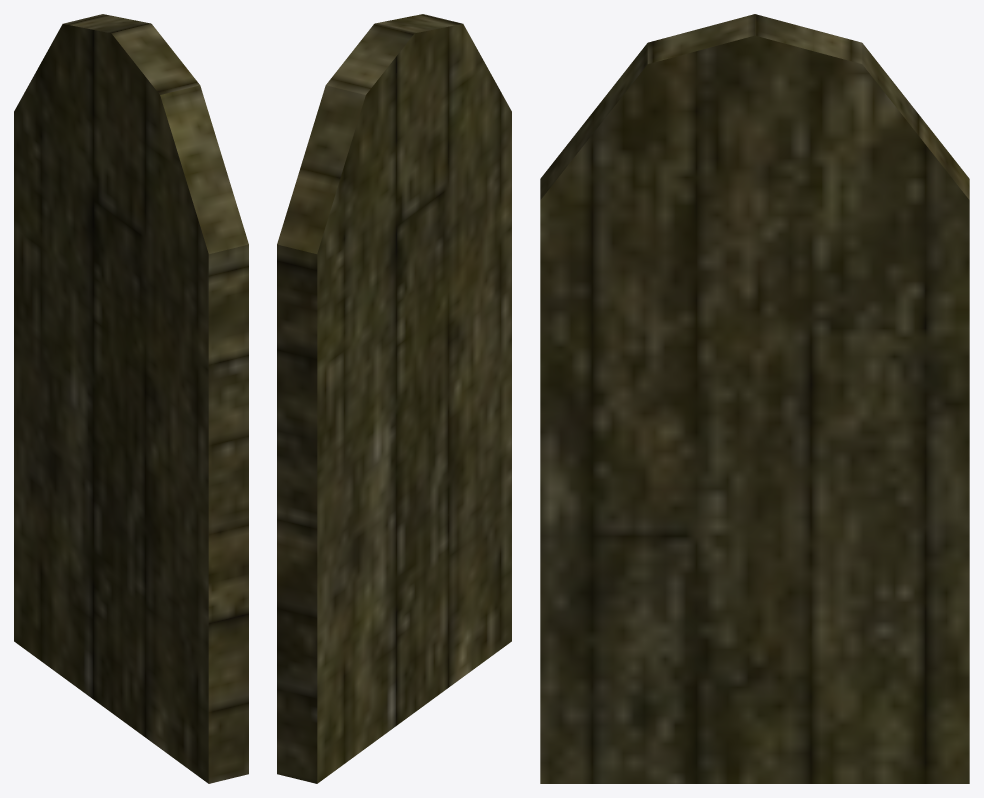
Rendered from door_main.obj.
3 renders of one model, left to right at view 1: azimuth 30°, elevation 25°; view 2: azimuth 150°, elevation 25°; view 3: azimuth 270°, elevation 25°, orthographic. The views are drawn at different scales.
Visible parts, largest first — view 1: Cube.004; view 2: Cube.004; view 3: Cube.004.
Boxes of the visible parts, x1,y1,x2,y2 form: Cube.004: (14,14,248,783); Cube.004: (277,14,511,783); Cube.004: (540,14,969,783).
Size of the model in its own units: 0.1905 by 3.08 by 1.6.
